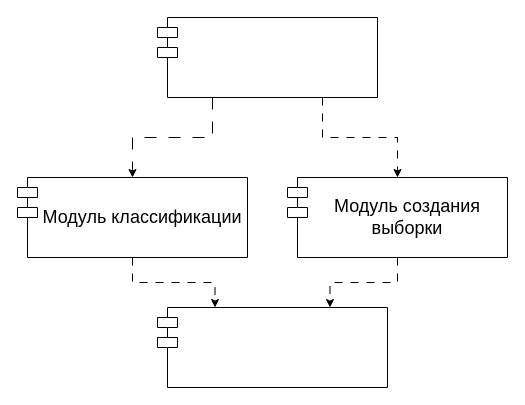
This 525x405 diagram has some shape labels left out. The box of each missing label's shape, as (x1, y1, x2, y2) in pixels:
Модуль очистки и предобработки текста: (156, 306, 388, 388)
Модуль пользовательного интерфейса: (156, 16, 378, 98)
